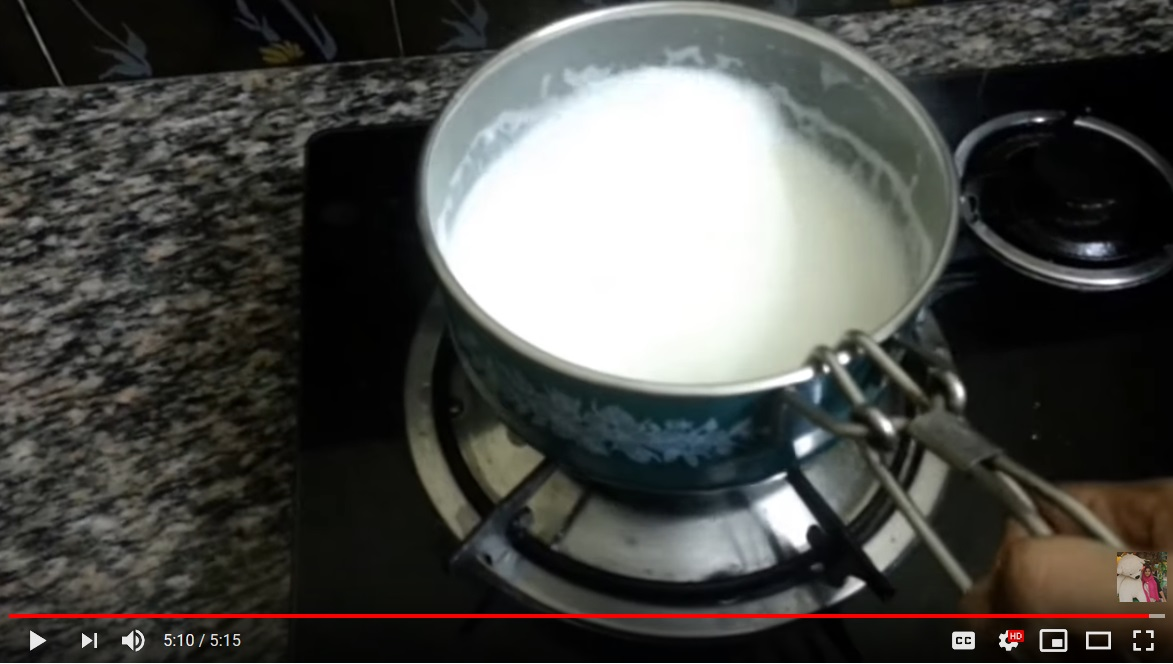Steaming: (389, 5, 968, 423)
